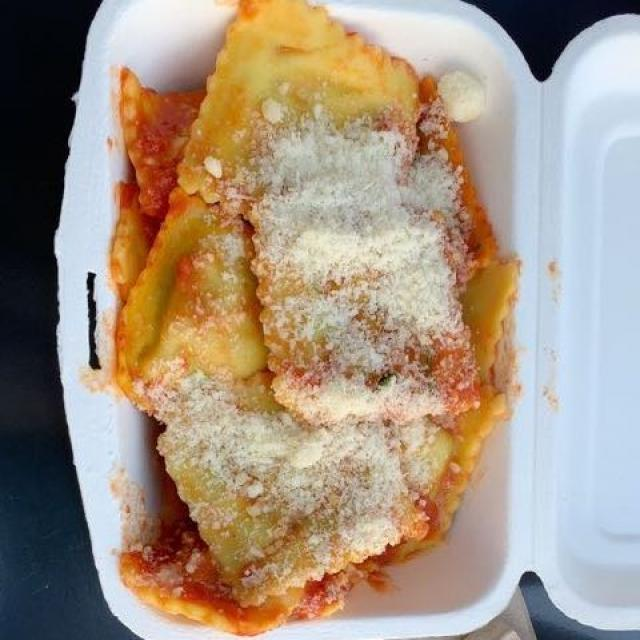cheese: (124, 69, 498, 615)
tomato-sauce: (118, 1, 519, 640)
